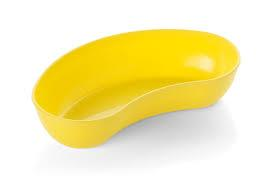Kidney Tray: (31, 25, 242, 150)
